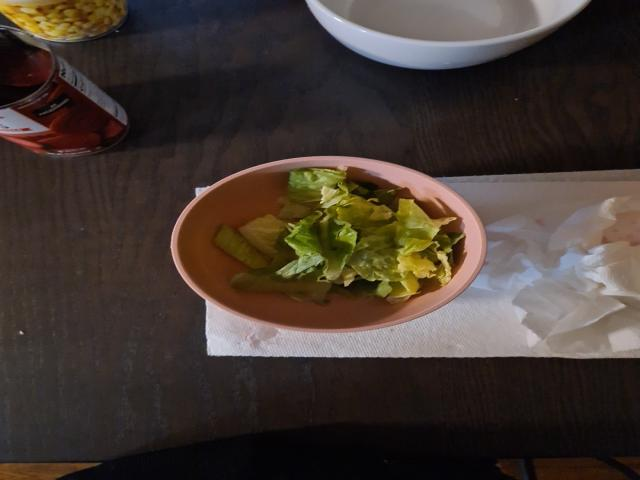kichen waste: (210, 170, 466, 306)
